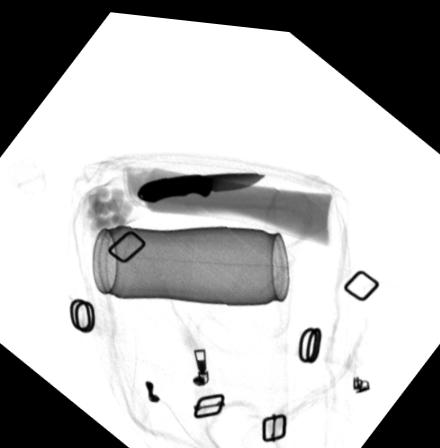Knife: (135, 165, 267, 198)
